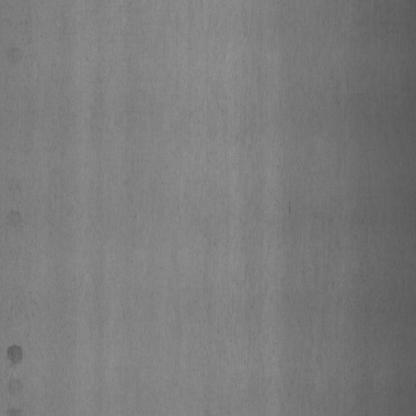oil_spot: (5, 340, 26, 377)
